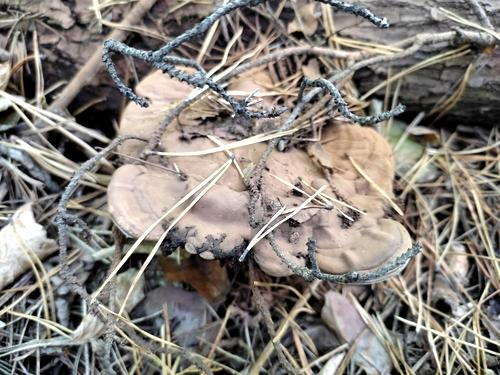Ganoderma - Fruit Body: (116, 56, 414, 285)
